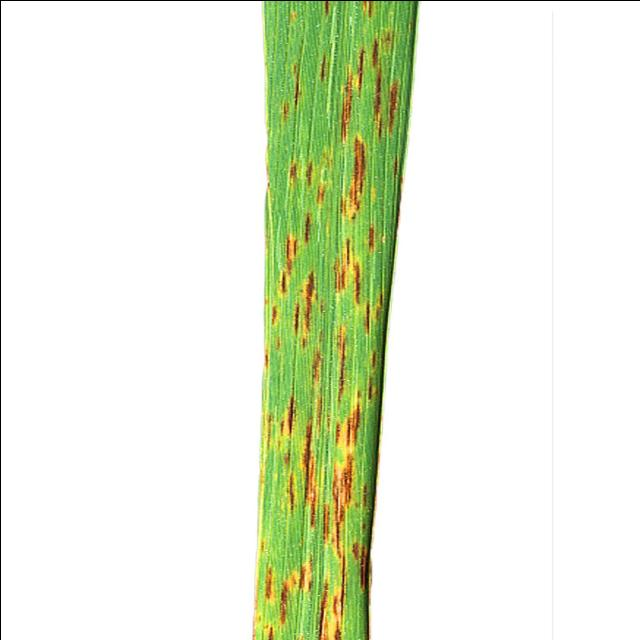Narrow brown: (212, 0, 437, 640)
